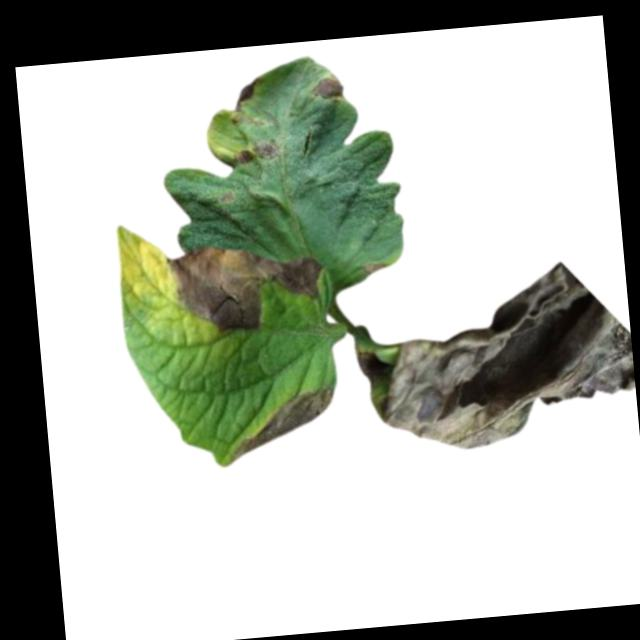Early_blight: (350, 254, 638, 458), (164, 234, 325, 339), (227, 384, 339, 463), (232, 136, 280, 167), (231, 79, 262, 114), (309, 75, 347, 103), (360, 259, 387, 277), (218, 188, 236, 203)
